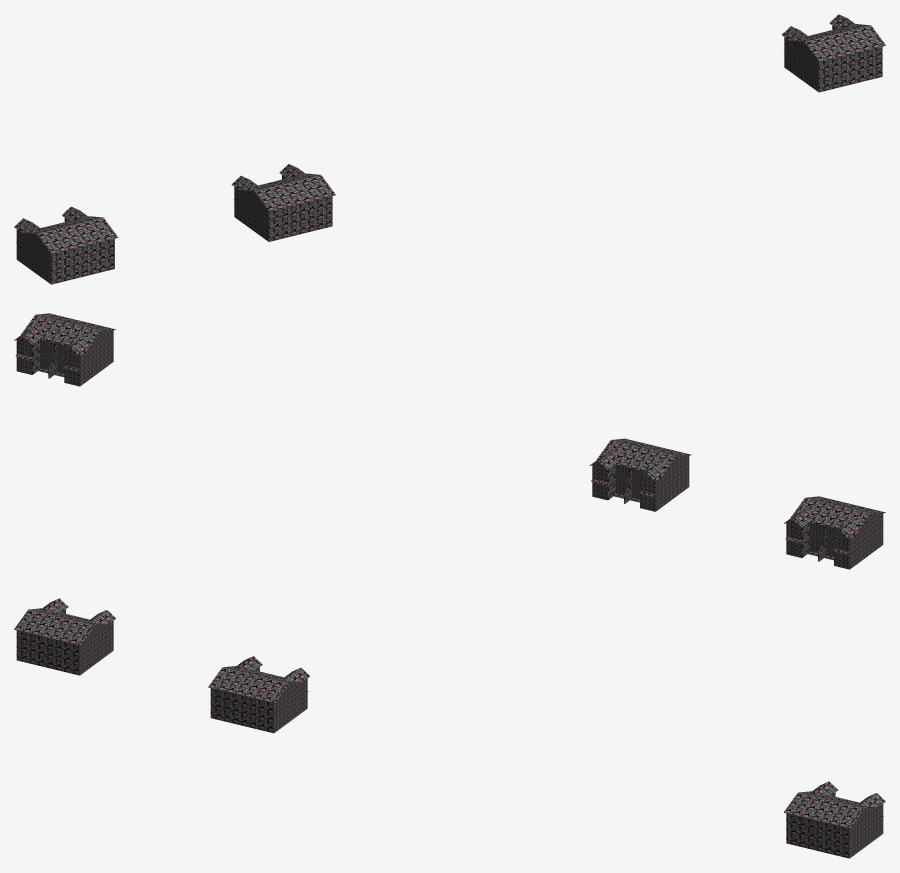
The model's file is fangzi08.FBX.
3 renders of one model, top to bottom at view 1: azimuth 30°, elevation 25°; view 2: azimuth 150°, elevation 25°; view 3: azimuth 330°, elevation 25°, orthographic.
Parts seen in each view (by area): view 1: fangzi08; view 2: fangzi08; view 3: fangzi08.
Part boxes in pixels (<box>): fangzi08: <box>14,14,885,284</box>; fangzi08: <box>14,313,885,569</box>; fangzi08: <box>14,598,885,858</box>.
Size of the model in its own units: 6734 by 316 by 733.
